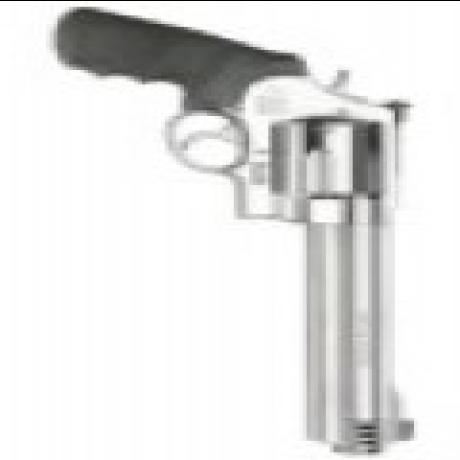weapon: (53, 2, 422, 454)
